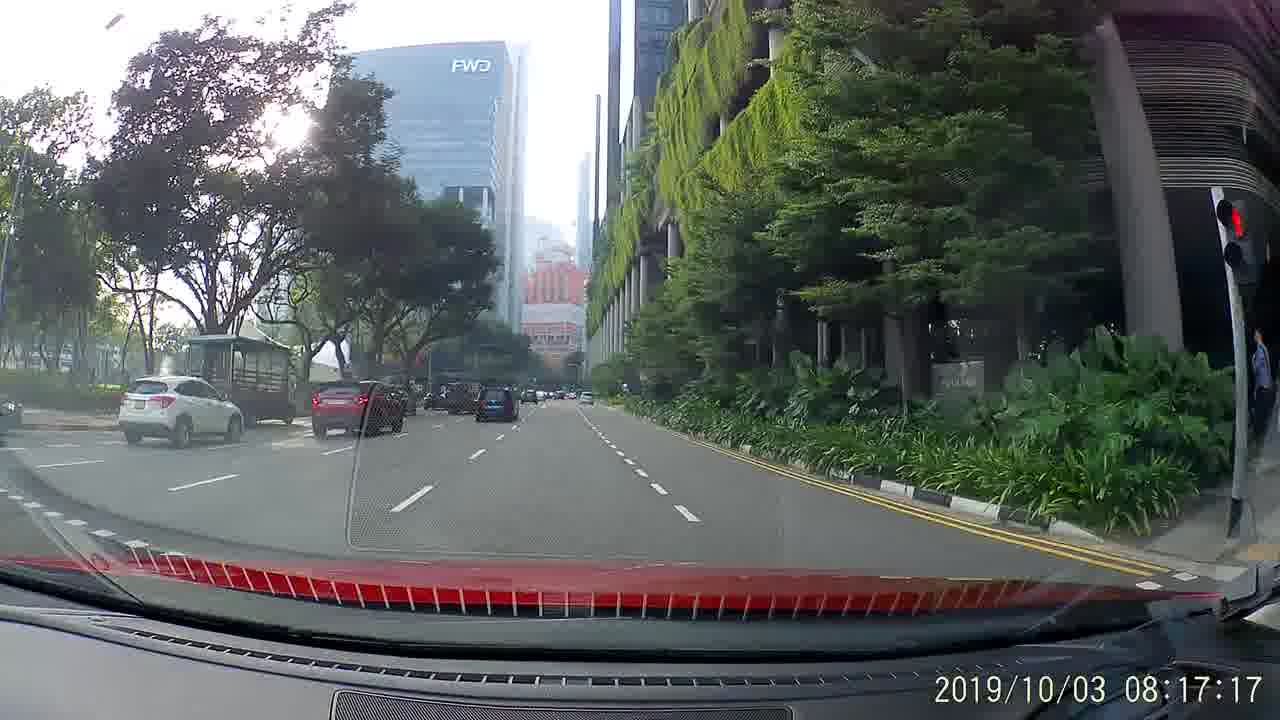car: (117, 374, 245, 449), (310, 380, 406, 437), (475, 385, 521, 423), (575, 390, 593, 407)
